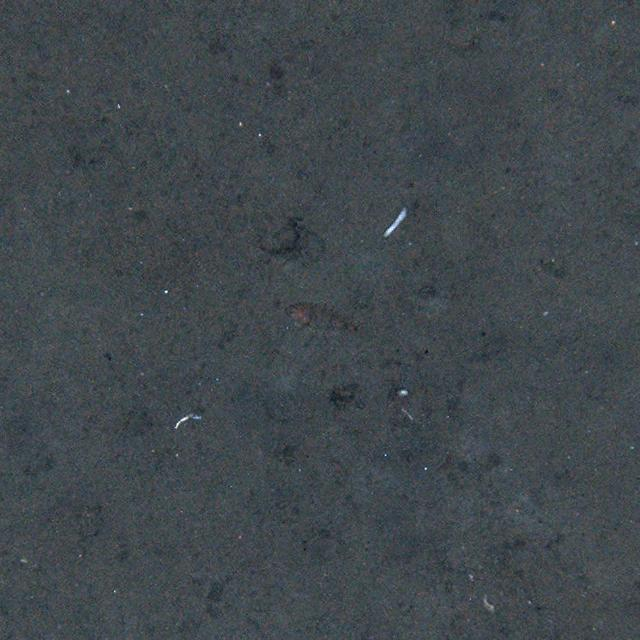flatfish: (284, 300, 360, 344)
